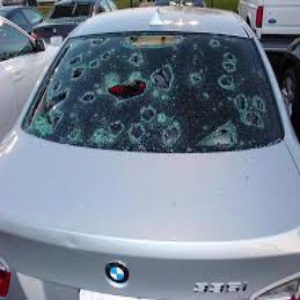rear_windshield_glass: (59, 40, 265, 142)
